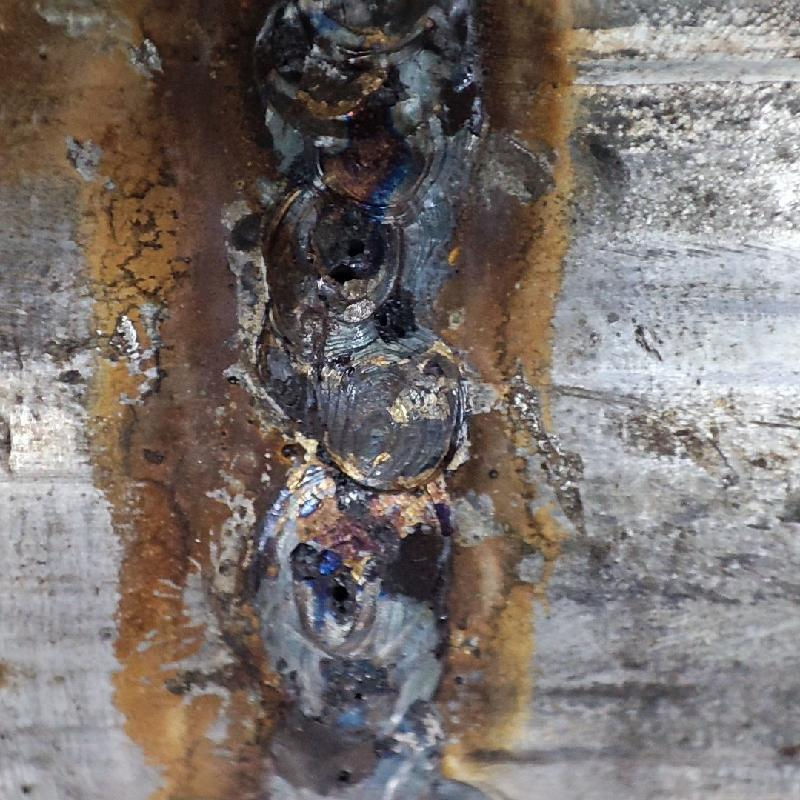Surface_pores: (312, 221, 387, 307), (304, 557, 388, 630)
crater: (250, 0, 460, 476), (263, 488, 448, 787)
